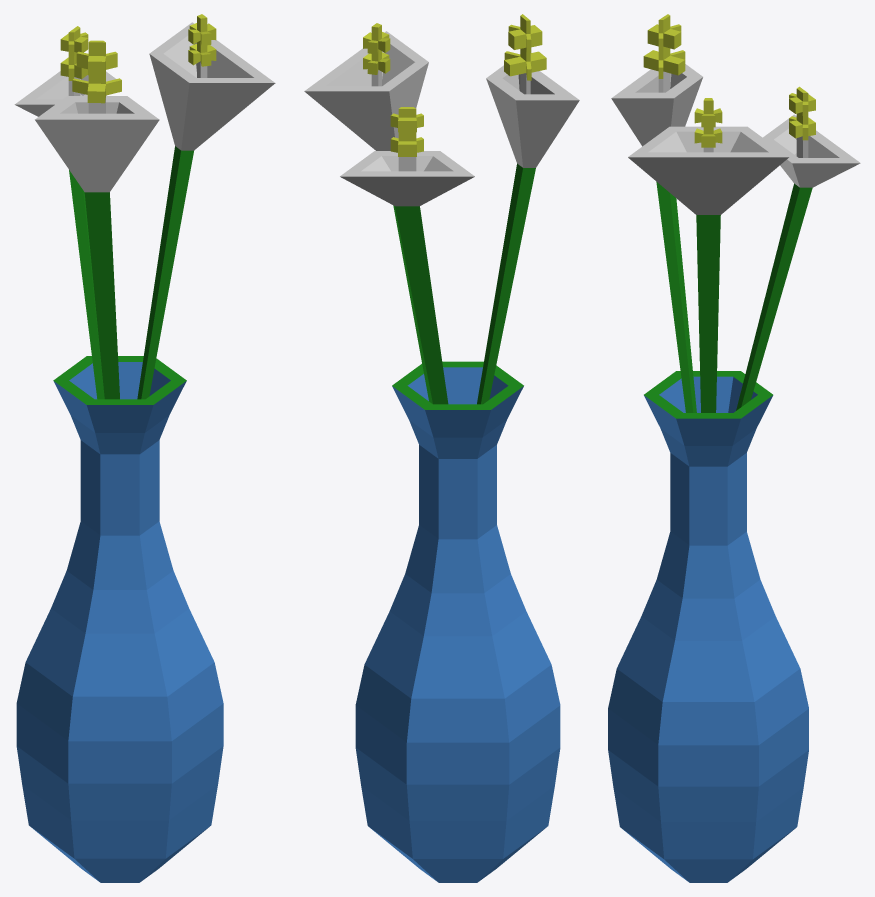
File: Vase_Material.fbx
3 renders of one model, left to right at view 1: azimuth 30°, elevation 25°; view 2: azimuth 150°, elevation 25°; view 3: azimuth 270°, elevation 25°, orthographic. The views are drawn at different scales.
Parts seen in each view (by area): view 1: Vase; view 2: Vase; view 3: Vase.
Part boxes in pixels (left/top/right/bottom): Vase: left=14, top=14, right=275, bottom=882; Vase: left=304, top=14, right=579, bottom=882; Vase: left=608, top=14, right=860, bottom=882.
Bounding box in the file's own units: 0.2663 × 0.9972 × 0.2753.
